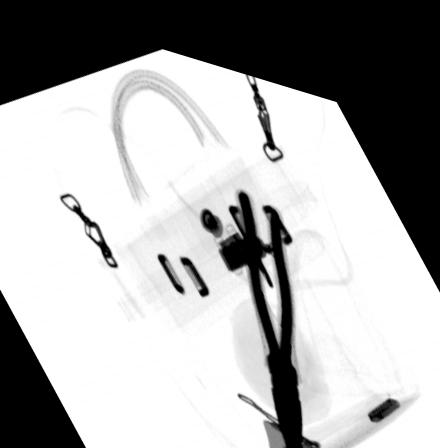Pliers: (232, 172, 303, 441)
